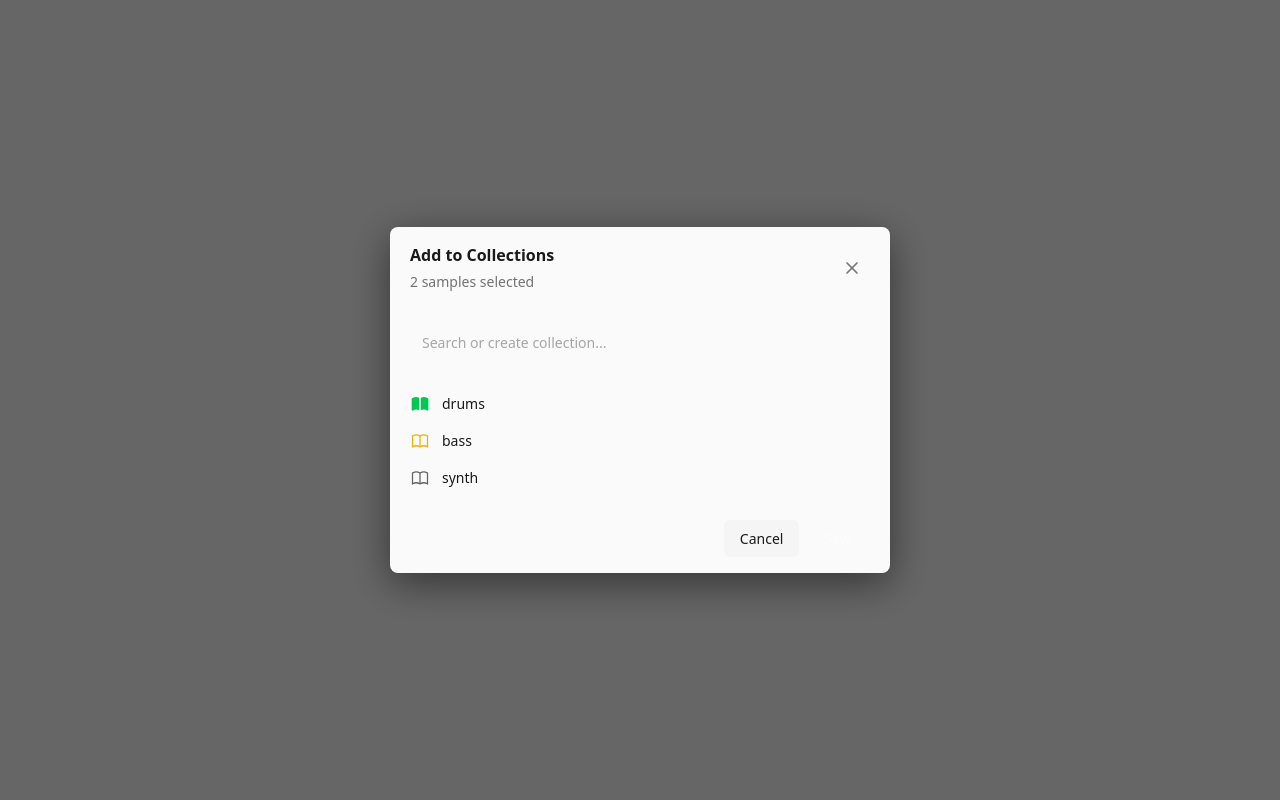
Test case: CollectionPopup › Validation › rejects uppercase letters
Type "TestName" into the field with placeholder "Search or create collection..." at point(640, 342), box top-left (410, 324), bottom-right (870, 361)
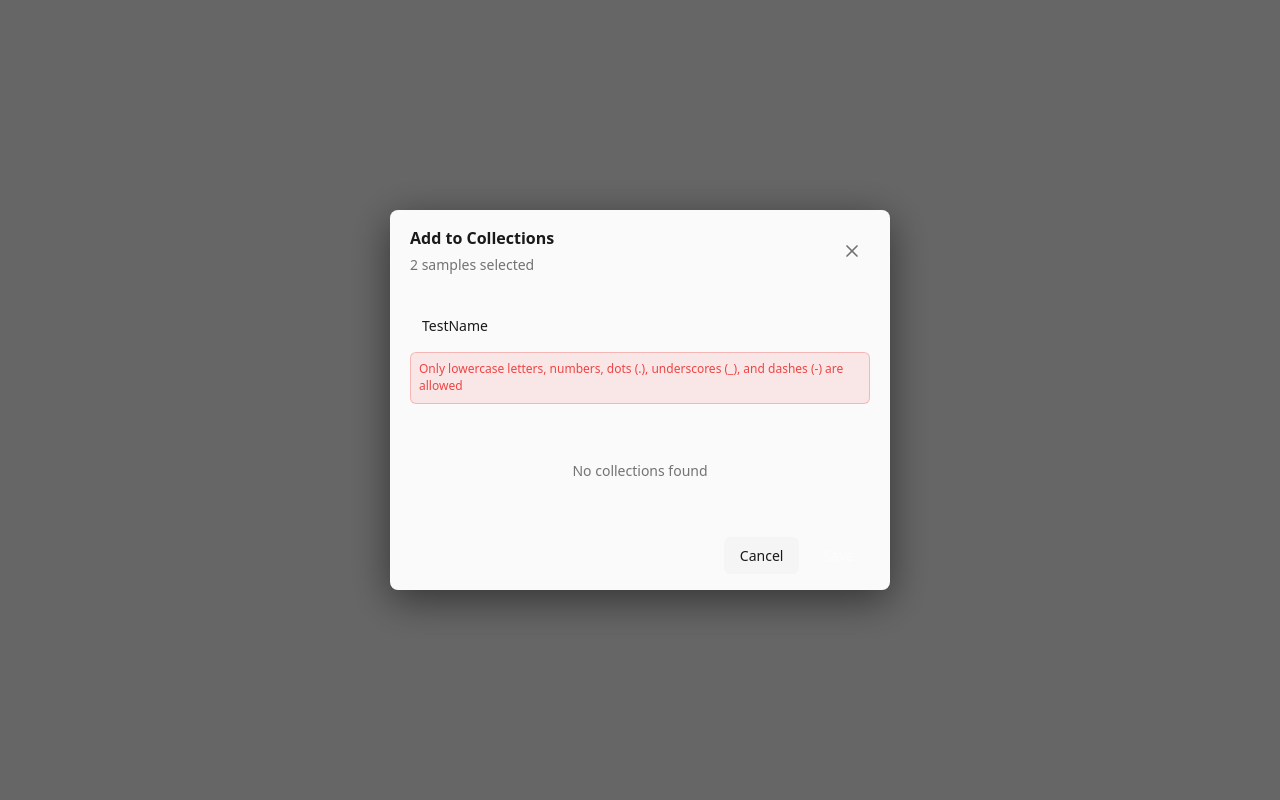
Check: the text "Only lowercase" is shown, box top-left (419, 360), bottom-right (843, 394)
